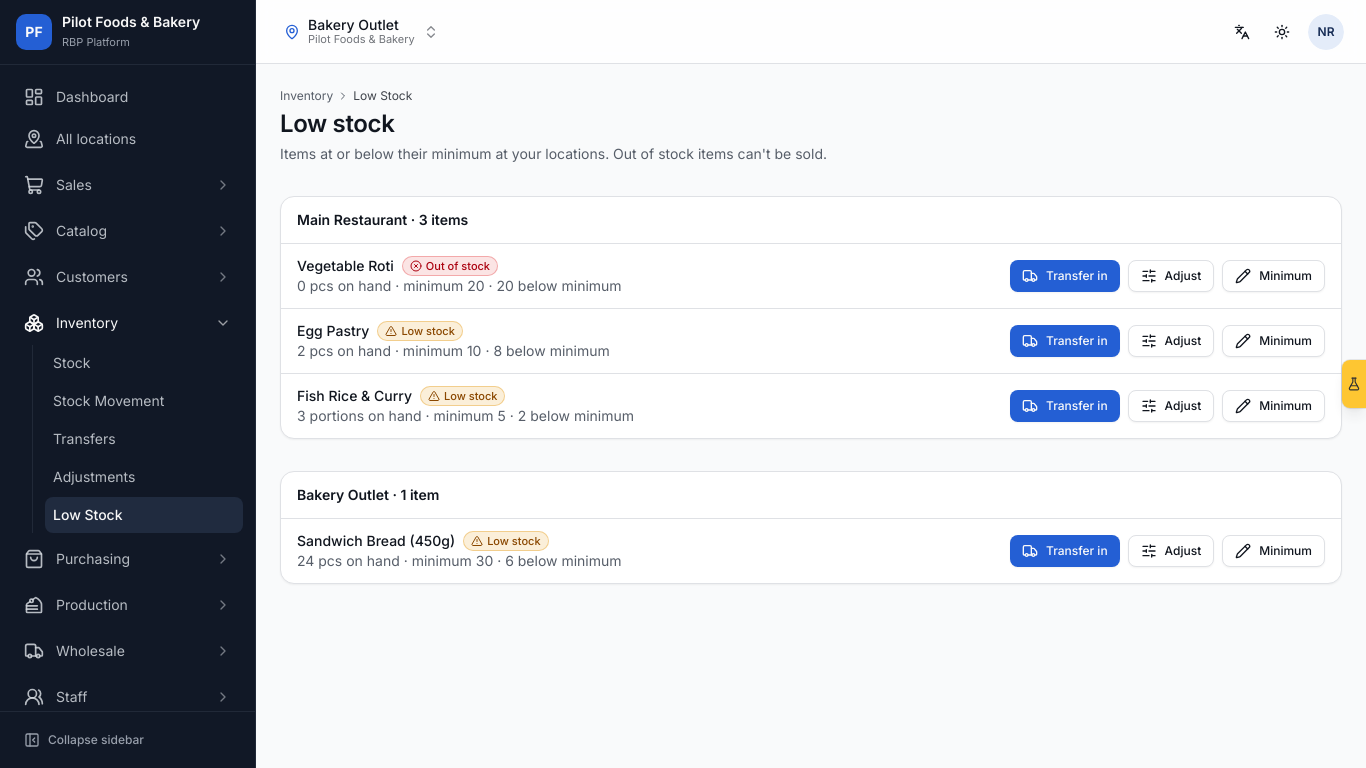
Test: INV-006 low stock › lists low items by location and prefills a transfer in from the best source
Expected: the link "Vegetable Roti" is shown, [297,256,394,276]
Expected: the link "Fish Rice & Curry" is shown, [297,386,412,406]
Click the button with aria-label "Transfer Sandwich Bread (450g) to Bakery Outlet" at (1065, 551), box [1010,535,1120,567]
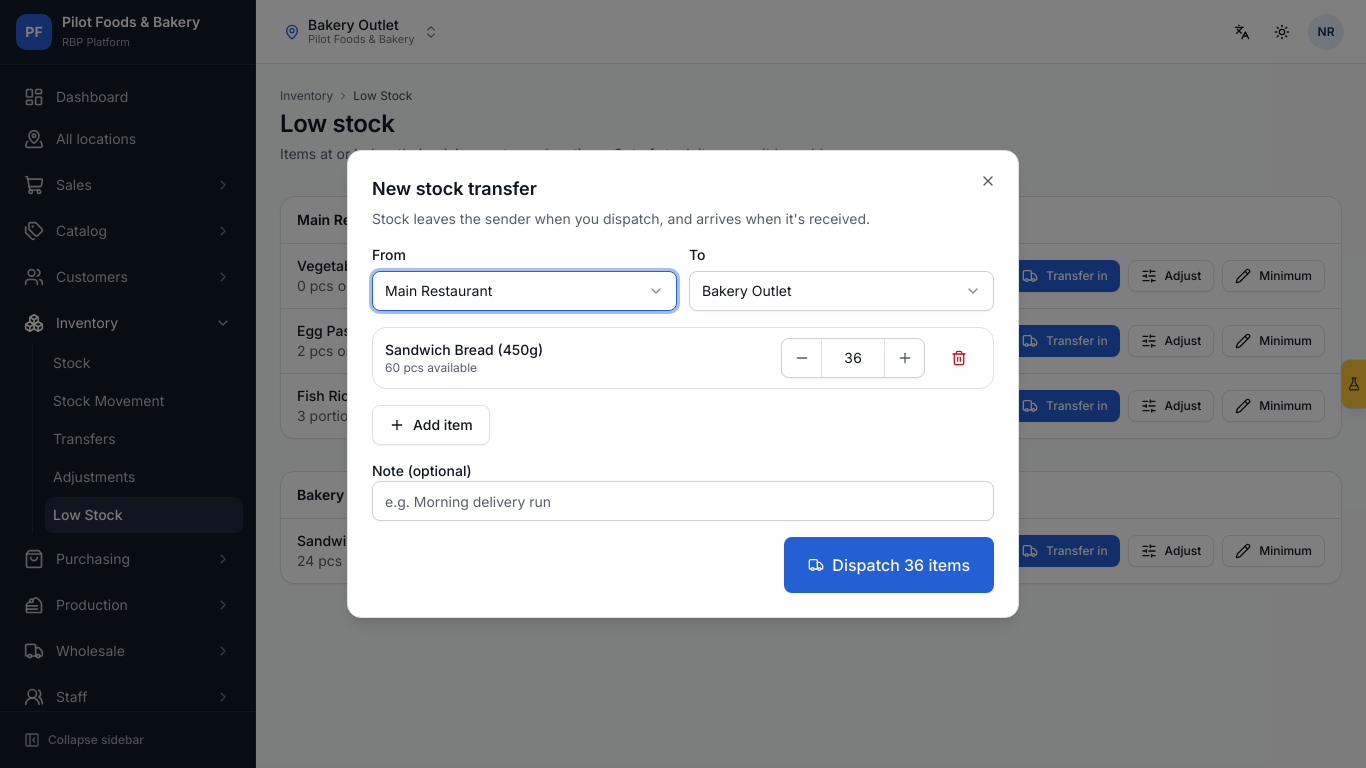
Result: the text "Sandwich Bread (450g)" is shown at [385,341,543,358]
Result: the button "Dispatch 36 items" is enabled at [784,537,994,593]
